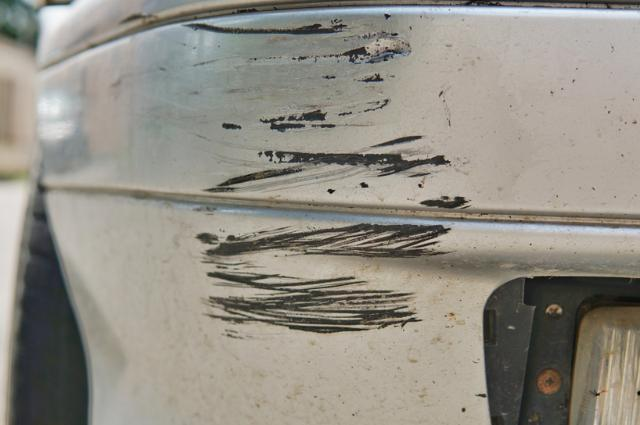Fender: (134, 12, 469, 366)
